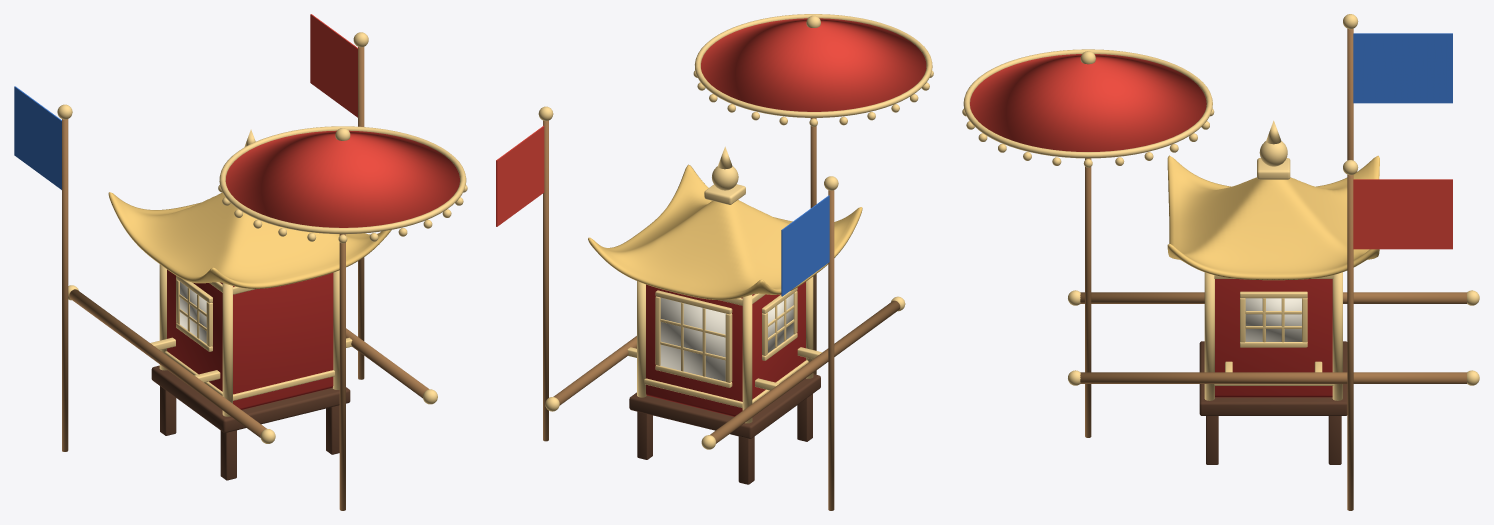
Rendered from eoga.glb.
The picture shows the model from 3 angles, left to right: view 1: azimuth 30°, elevation 25°; view 2: azimuth 150°, elevation 25°; view 3: azimuth 270°, elevation 25°; orthographic projection. The views are drawn at different scales.
Visible parts, largest first — view 1: Gama.002, Parasol, Flag0, Flag1, FlagPole0, ParasolStand, FlagPole1; view 2: Gama.002, Parasol, Flag0, Flag1, FlagPole0, FlagPole1, ParasolStand; view 3: Gama.002, Parasol, Flag0, Flag1, FlagPole1, ParasolStand, FlagPole0.
Part boxes in pixels (box(x1,y1,x2,y2)): Gama.002: box(68, 129, 437, 480); Parasol: box(218, 126, 467, 243); Flag0: box(14, 86, 61, 189); Flag1: box(310, 14, 357, 117); FlagPole0: box(57, 104, 72, 451); ParasolStand: box(339, 234, 345, 510); FlagPole1: box(353, 32, 368, 379); Gama.002: box(545, 146, 905, 484); Parasol: box(693, 14, 933, 126); Flag0: box(781, 195, 829, 296); Flag1: box(496, 125, 544, 226); FlagPole0: box(824, 176, 838, 510); FlagPole1: box(538, 106, 553, 441); ParasolStand: box(810, 118, 816, 374); Gama.002: box(1068, 120, 1479, 464); Parasol: box(962, 49, 1214, 167); Flag0: box(1353, 33, 1452, 103); Flag1: box(1353, 179, 1452, 249); FlagPole1: box(1343, 160, 1358, 510); ParasolStand: box(1085, 158, 1091, 437); FlagPole0: box(1343, 14, 1358, 160).
Size of the model in its own units: 2.82 by 3.32 by 4.05.
